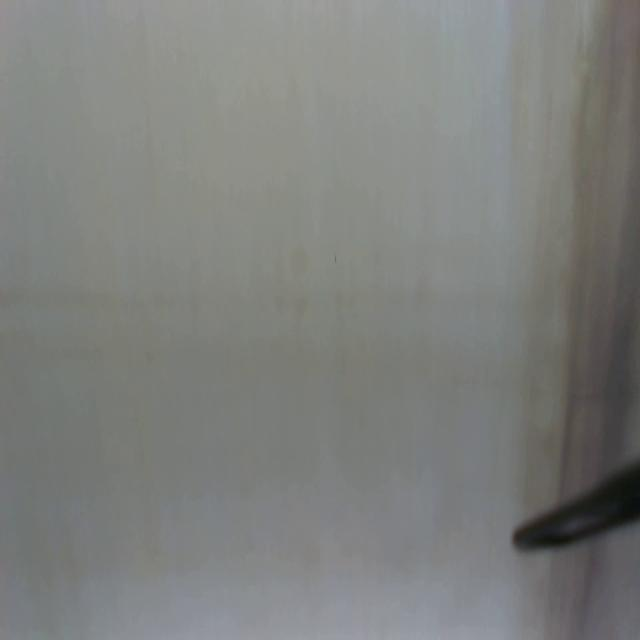color bleeding: (505, 1, 640, 459)
hole: (333, 252, 339, 265)
